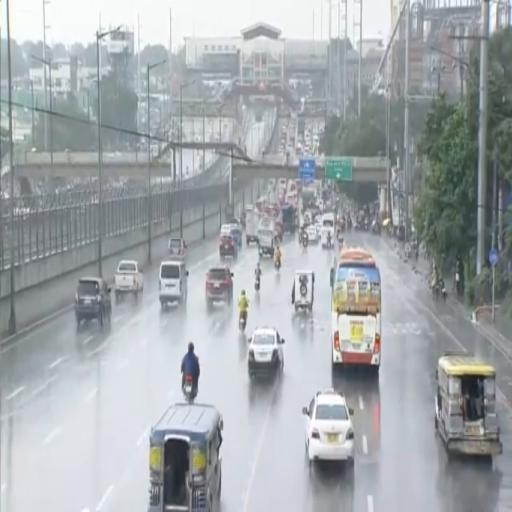bus: (331, 248, 381, 372)
car: (303, 389, 354, 466), (75, 278, 112, 327), (248, 327, 284, 377), (206, 267, 233, 310), (219, 234, 238, 260), (168, 237, 186, 261), (306, 226, 318, 244), (228, 217, 241, 229), (315, 216, 321, 233)
jeepney: (148, 404, 223, 511), (435, 354, 502, 455)
motorcycle: (183, 375, 195, 403), (432, 279, 446, 300), (239, 312, 247, 332), (439, 279, 446, 301), (432, 282, 440, 300), (456, 271, 461, 296), (372, 220, 380, 234), (302, 234, 308, 248), (255, 276, 260, 292), (274, 259, 281, 270), (405, 244, 410, 259), (347, 218, 352, 231), (327, 236, 332, 249), (364, 219, 369, 231)
truck: (114, 261, 143, 300), (258, 217, 275, 257), (246, 211, 258, 245), (282, 204, 294, 233)
